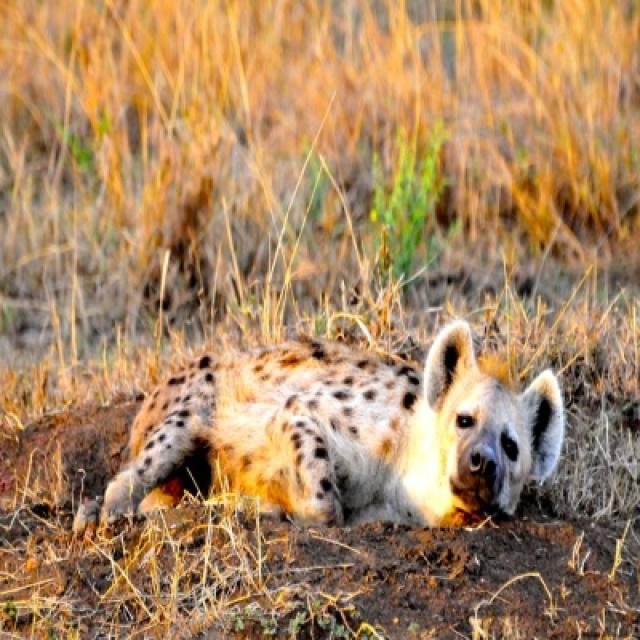hyena: (101, 322, 568, 531)
